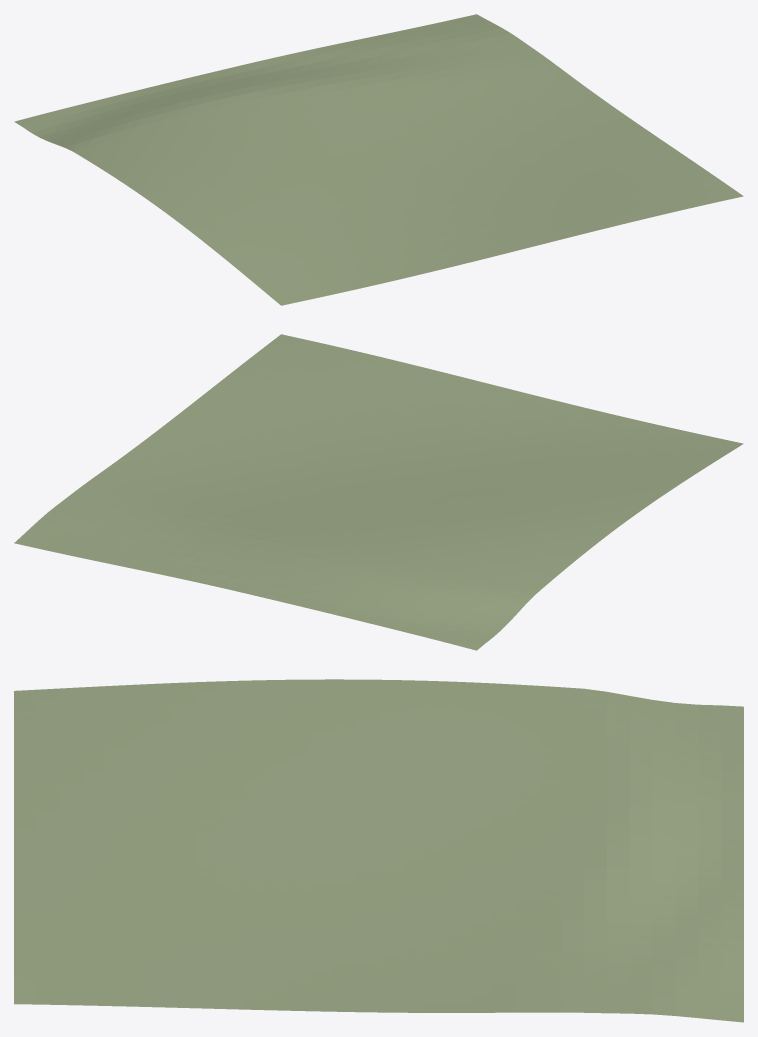
Rendered from coast-2-1.glb.
3 renders of one model, top to bottom at view 1: azimuth 30°, elevation 25°; view 2: azimuth 150°, elevation 25°; view 3: azimuth 270°, elevation 25°, orthographic. The views are drawn at different scales.
Visible parts, largest first — view 1: coast-2-1; view 2: coast-2-1; view 3: coast-2-1.
Boxes of the visible parts, x1,y1,x2,y2 form: coast-2-1: (14, 14, 743, 305); coast-2-1: (14, 334, 743, 650); coast-2-1: (14, 679, 743, 1022).
Bounding box in the file's own units: 128 × 6.69 × 128.
